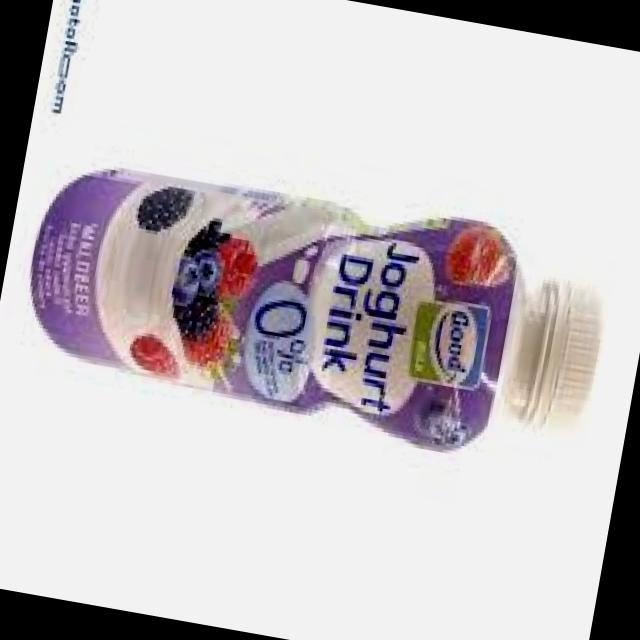bottle: (31, 171, 600, 450)
